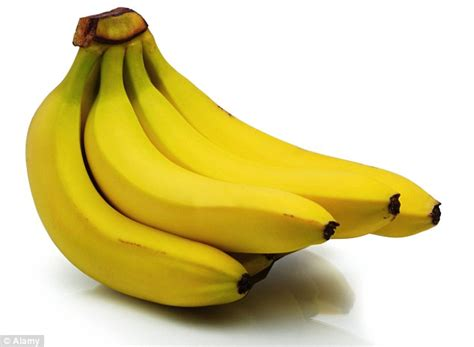???: (25, 7, 442, 308)
